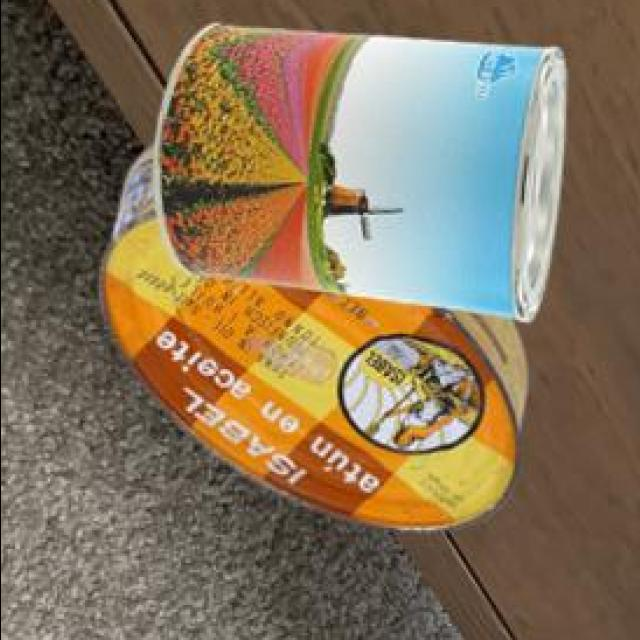logam: (102, 141, 529, 529), (155, 20, 569, 319)
